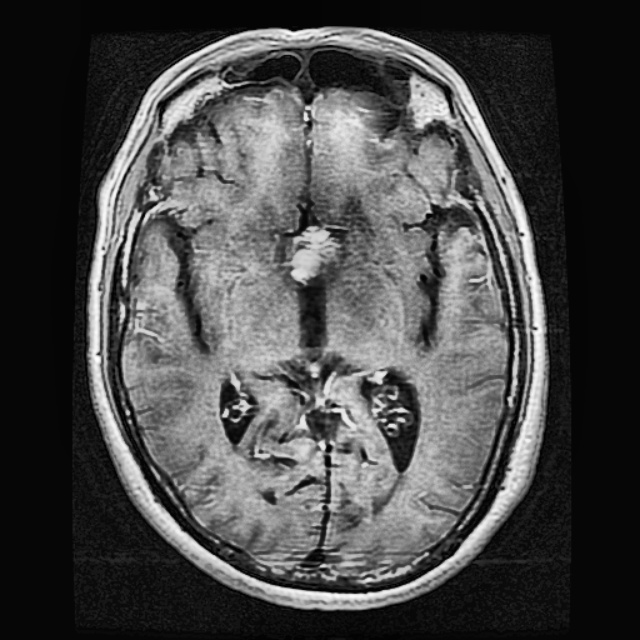Pituitary: (289, 228, 339, 282)
